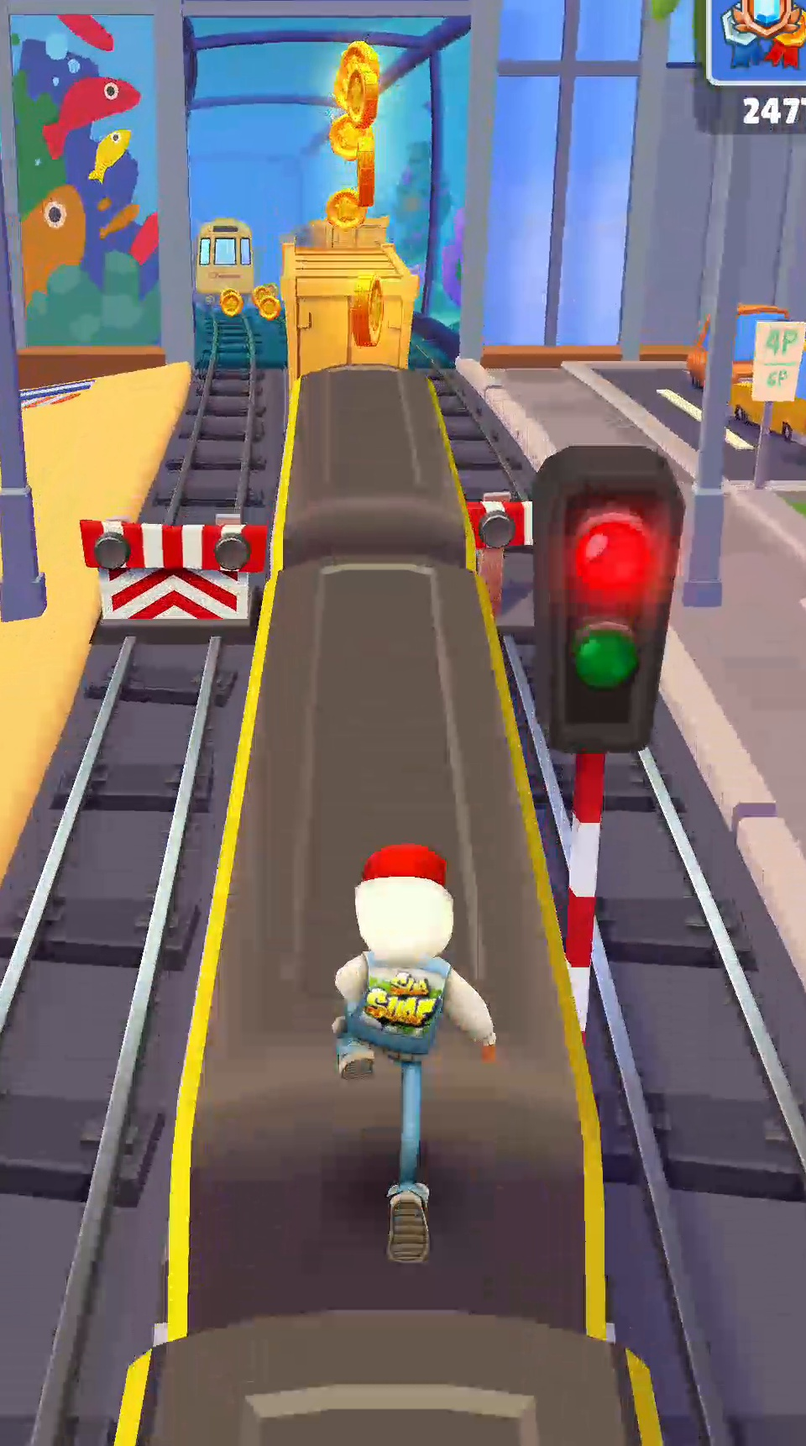blocker: (468, 494, 531, 615)
roll blocker: (80, 521, 269, 624)
traffic light: (532, 446, 684, 1037)
train: (280, 241, 418, 381), (195, 217, 254, 299), (311, 217, 389, 249)
